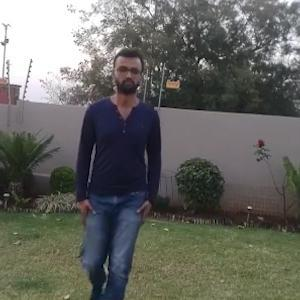follow: (75, 47, 157, 298)
